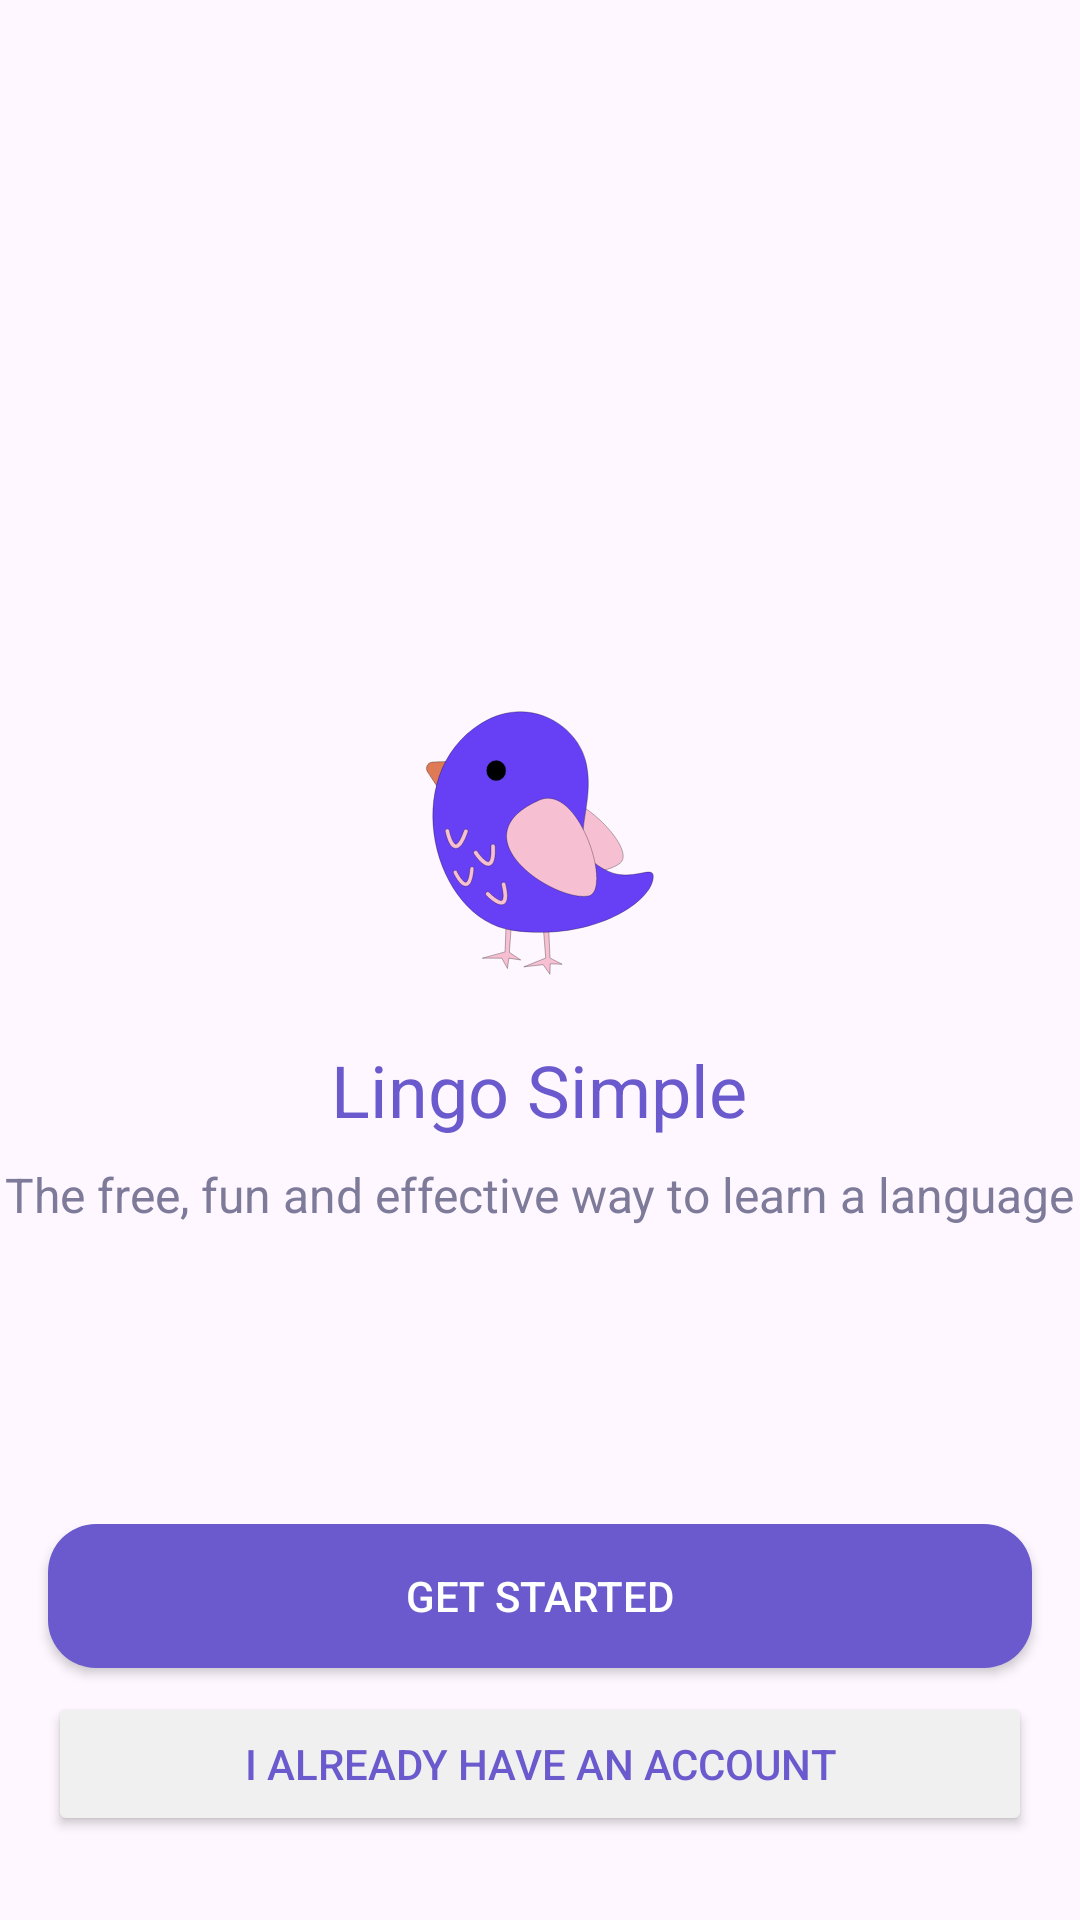

Locate icon controls on the screen. Image size 1080*1920, boxes as (x1, y1, x2, y2).
bird: (426, 711, 654, 974)
